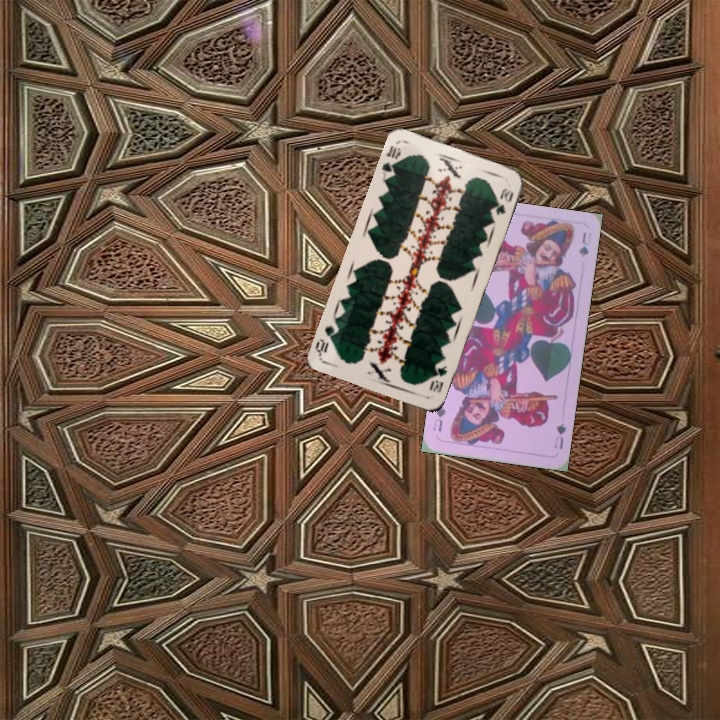G10: (378, 141, 404, 181), (425, 361, 450, 396)
GU: (550, 419, 569, 451)
